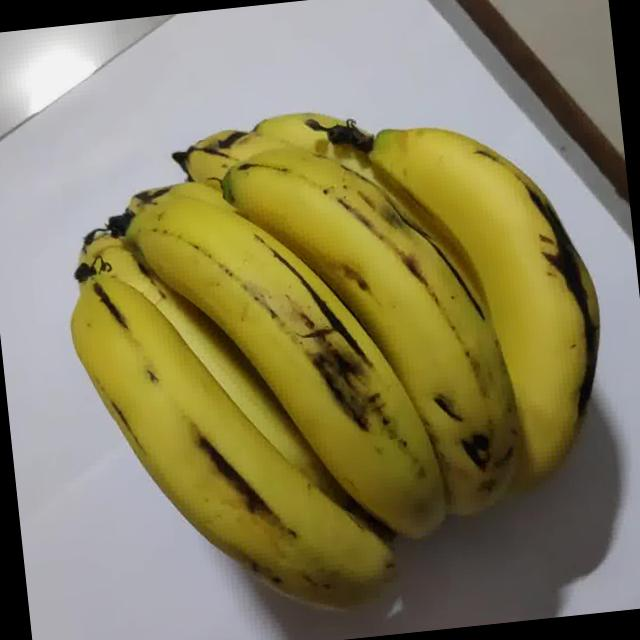banana_pacche: (23, 4, 640, 640)
